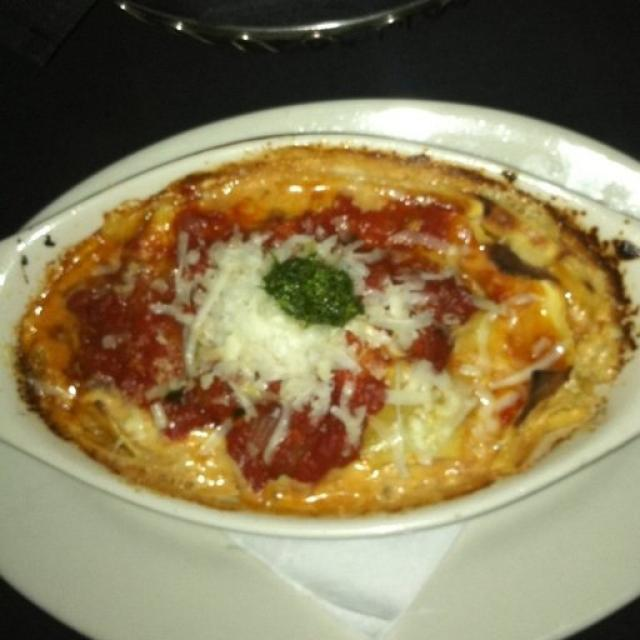Lasagna: (54, 173, 604, 502)
